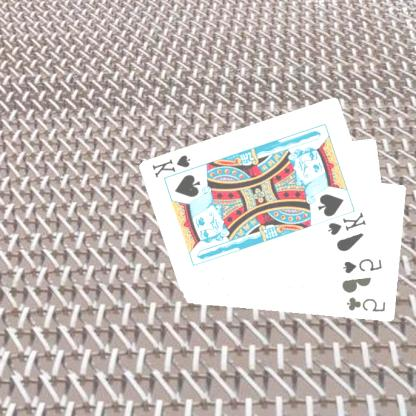5C: (346, 295, 388, 314)
5S: (342, 256, 386, 275)
KS: (152, 152, 200, 181), (327, 209, 370, 237)
